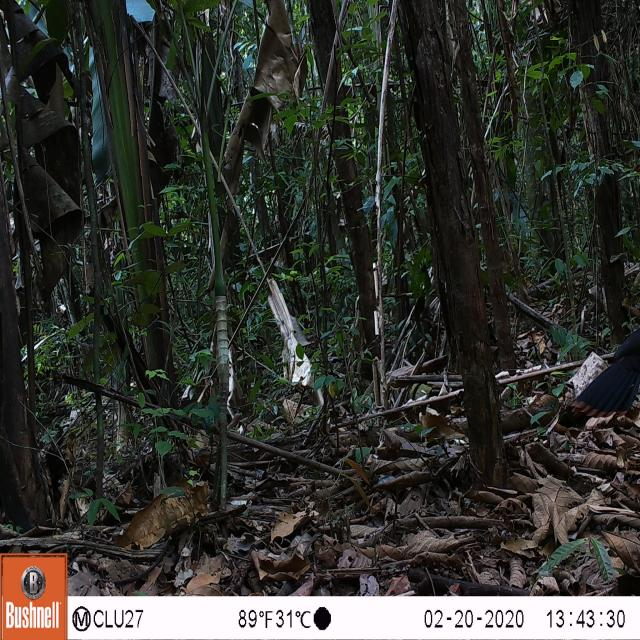Salvins Curassow: (566, 307, 640, 437)
